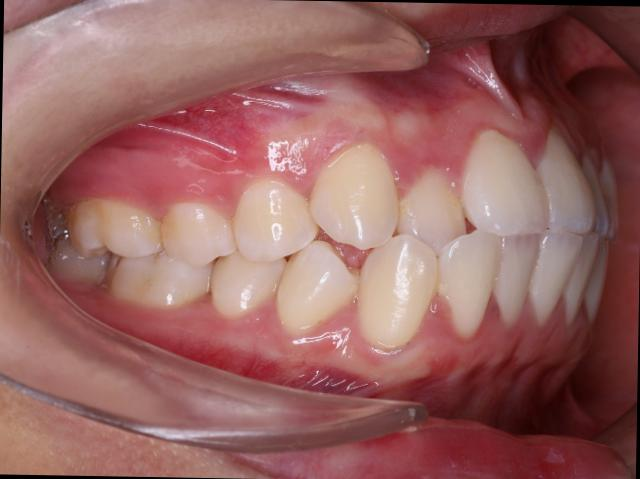canine class I: (274, 138, 443, 358)
molar class III 1/2: (55, 194, 214, 312)
